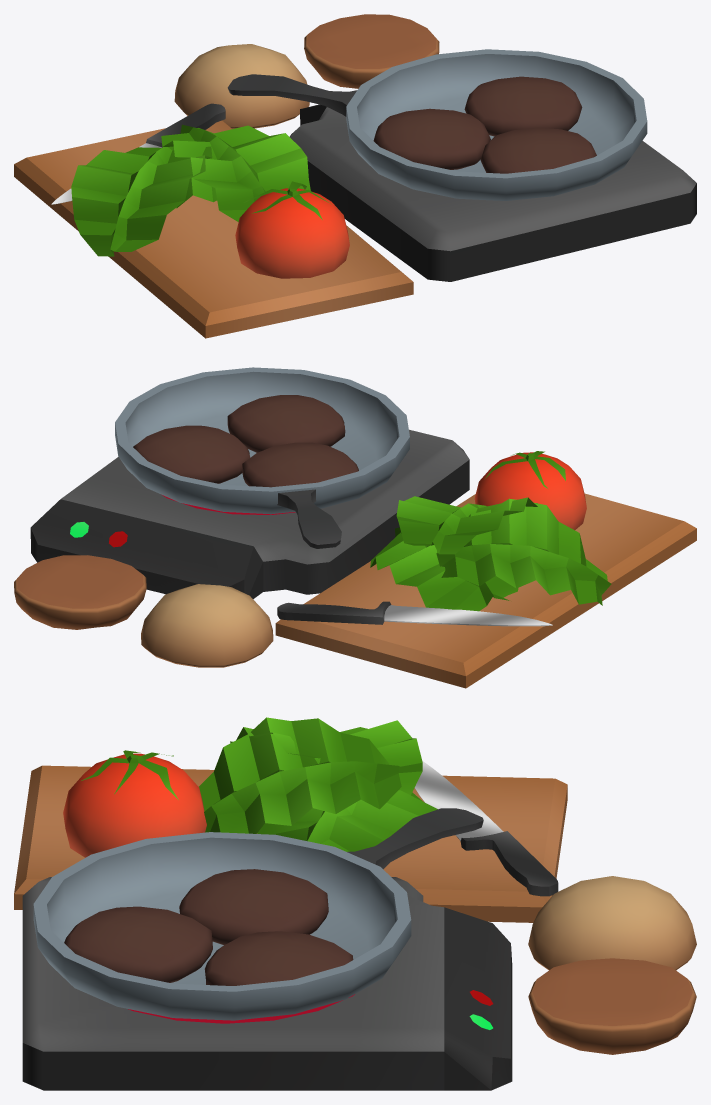
File: Station Burger.fbx
The picture shows the model from 3 angles, top to bottom: view 1: azimuth 30°, elevation 25°; view 2: azimuth 150°, elevation 25°; view 3: azimuth 270°, elevation 25°; orthographic projection. The views are drawn at different scales.
Visible parts, largest first — view 1: Station_Burger; view 2: Station_Burger; view 3: Station_Burger.
Boxes of the visible parts, x1,y1,x2,y2 form: Station_Burger: (14, 14, 696, 338); Station_Burger: (14, 367, 696, 688); Station_Burger: (14, 717, 696, 1090).
Bounding box in the file's own units: 187 × 36.45 × 173.
